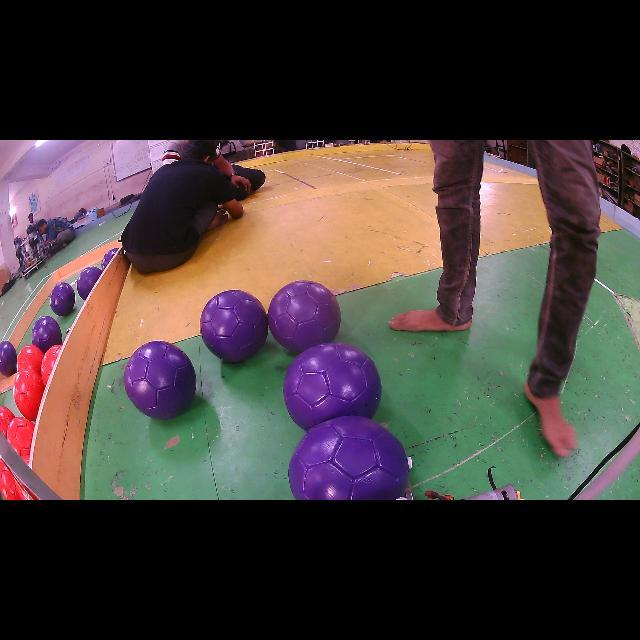P: (289, 415, 410, 500), (282, 342, 381, 430), (124, 341, 196, 419), (268, 280, 340, 352), (200, 290, 268, 362), (31, 316, 62, 352), (76, 266, 102, 300), (50, 282, 75, 316), (0, 341, 18, 376), (101, 248, 119, 270)
R: (14, 369, 45, 421), (0, 459, 34, 500), (6, 416, 35, 462), (16, 345, 44, 375), (41, 345, 61, 384), (0, 406, 15, 436)
